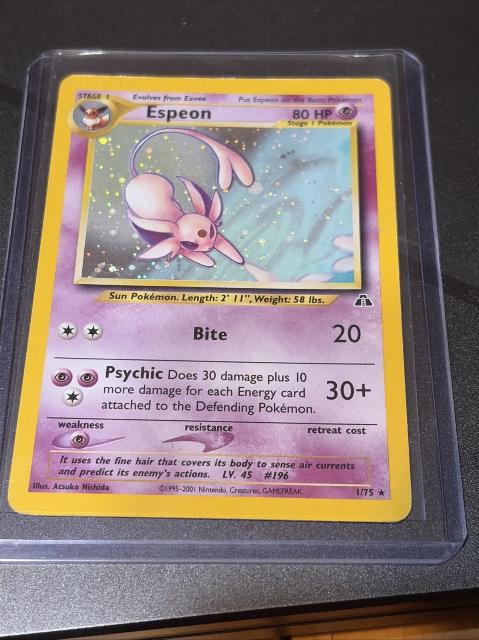Card: (3, 74, 416, 524)
Name: (142, 102, 217, 125)
